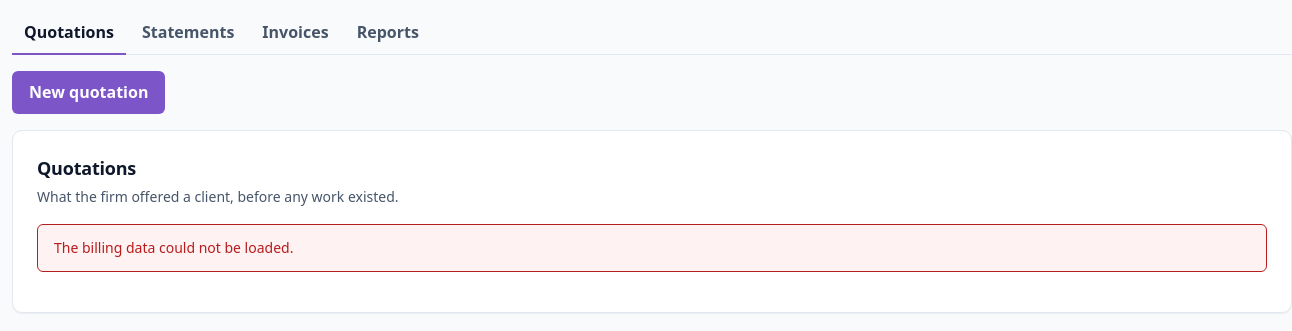
Test: an invoice the firm is still working against › says so, and how much work is riding on it
Click the button "Invoices" at coordinates (296, 33), box [250,12,341,55]
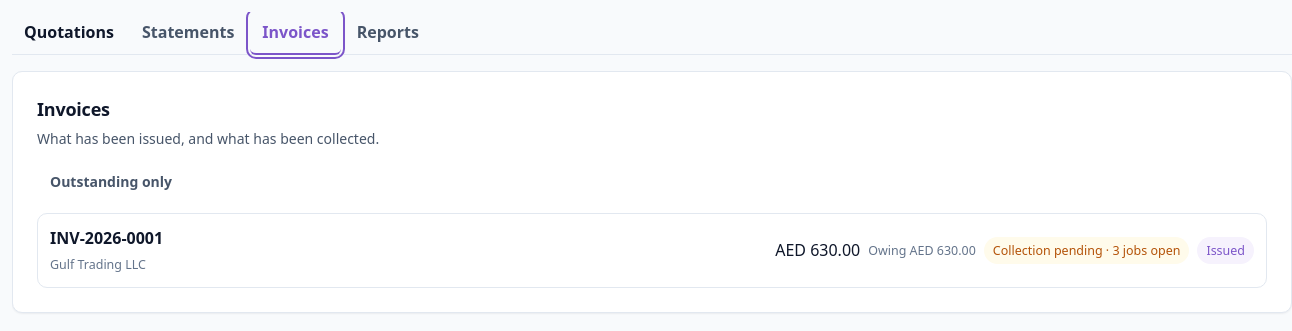
Now the text "Collection pending · 3 jobs open" is shown, box [984,237,1189,264]
